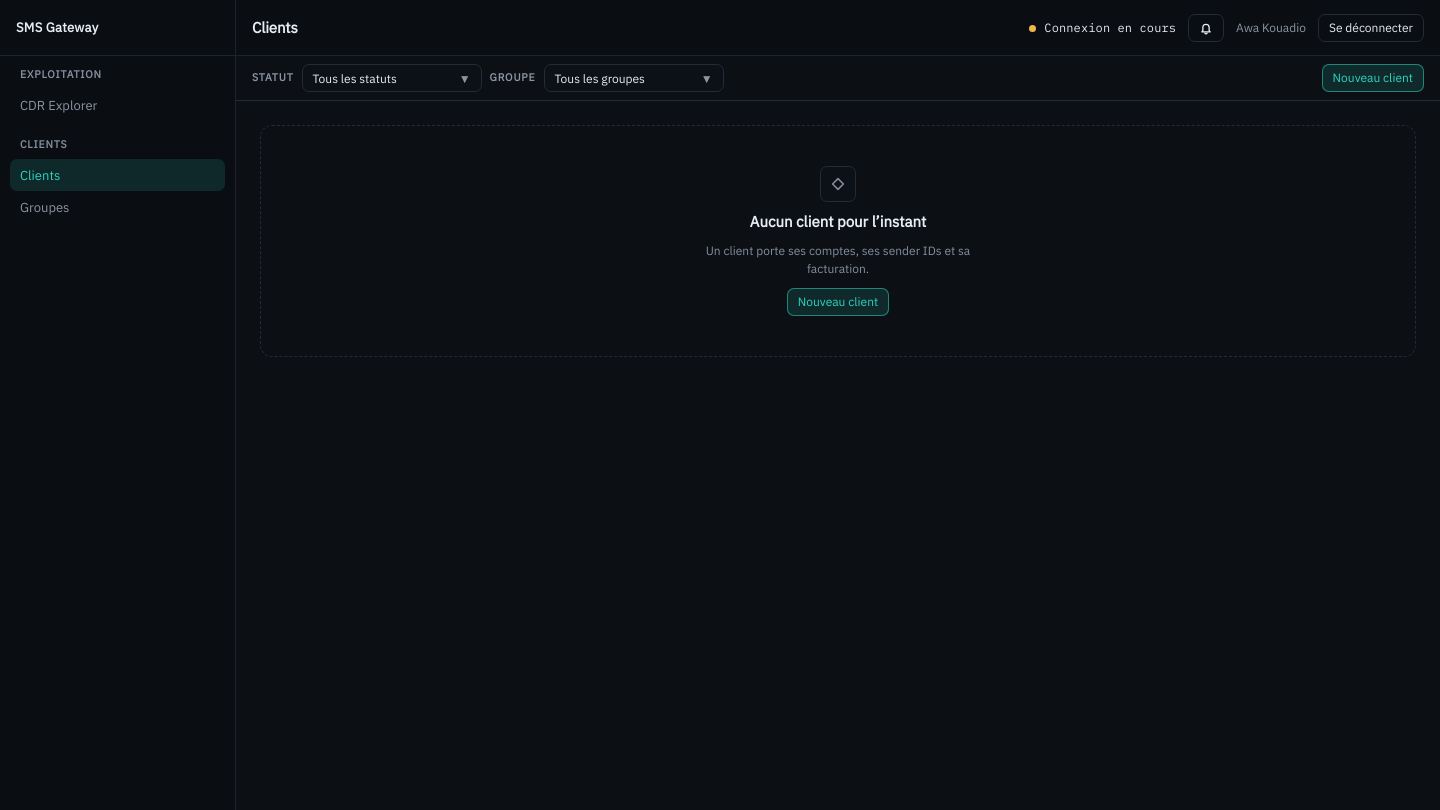
Test: the customers screen › says how to create the first customer when there is none, and lets the dialog be cancelled
The image size is (1440, 810).
Expected: the heading "Aucun client pour l’instant" is shown, [750,212,926,232]
What coordinates should you click on to do the following:
click the button "Nouveau client" below "Aucun client pour l’instant"
I would click on:
 (838, 302)
Its box is [787,288,889,316].
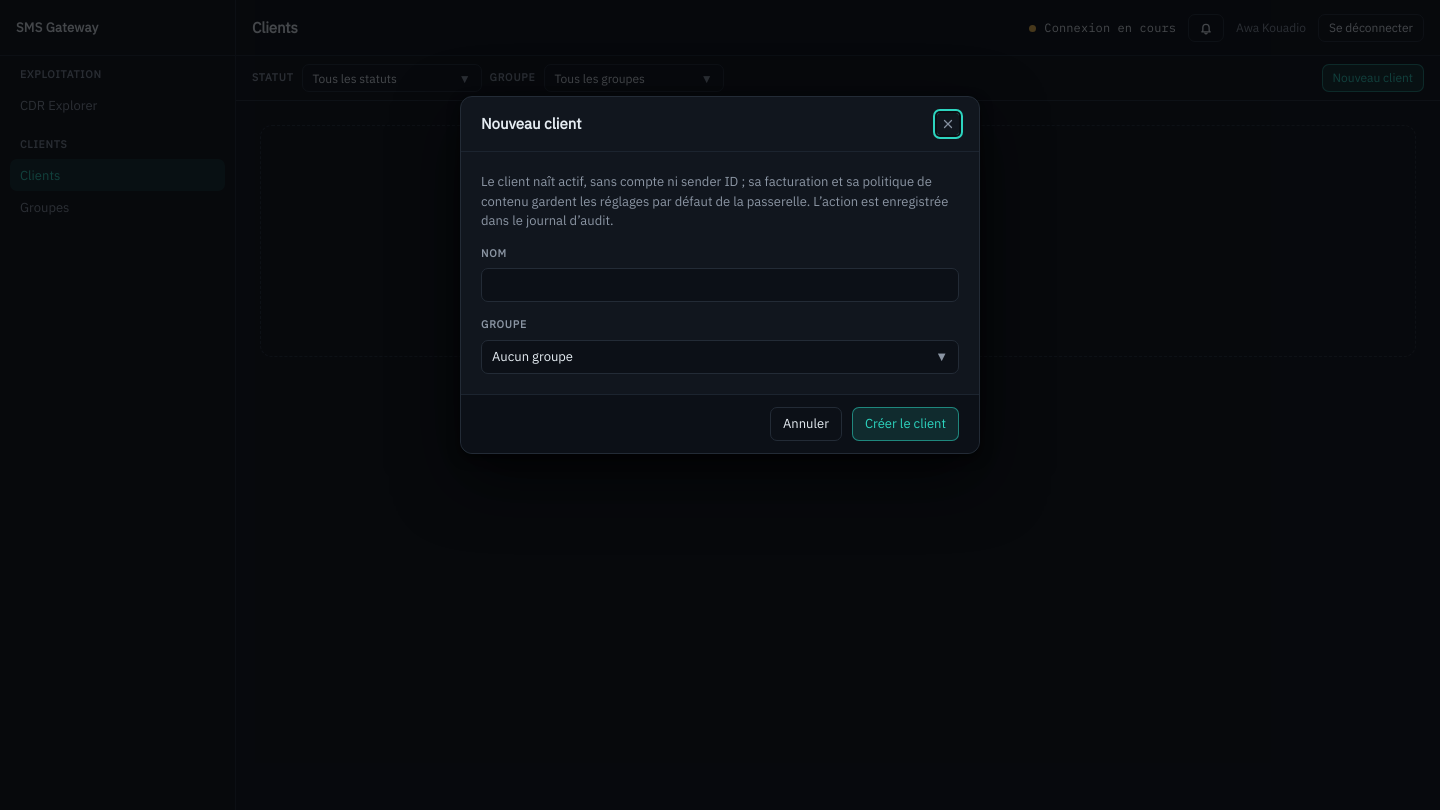
What coordinates should you click on to do the following:
click the button "Annuler"
I would click on:
 (806, 424)
Its box is [770,407,842,441].
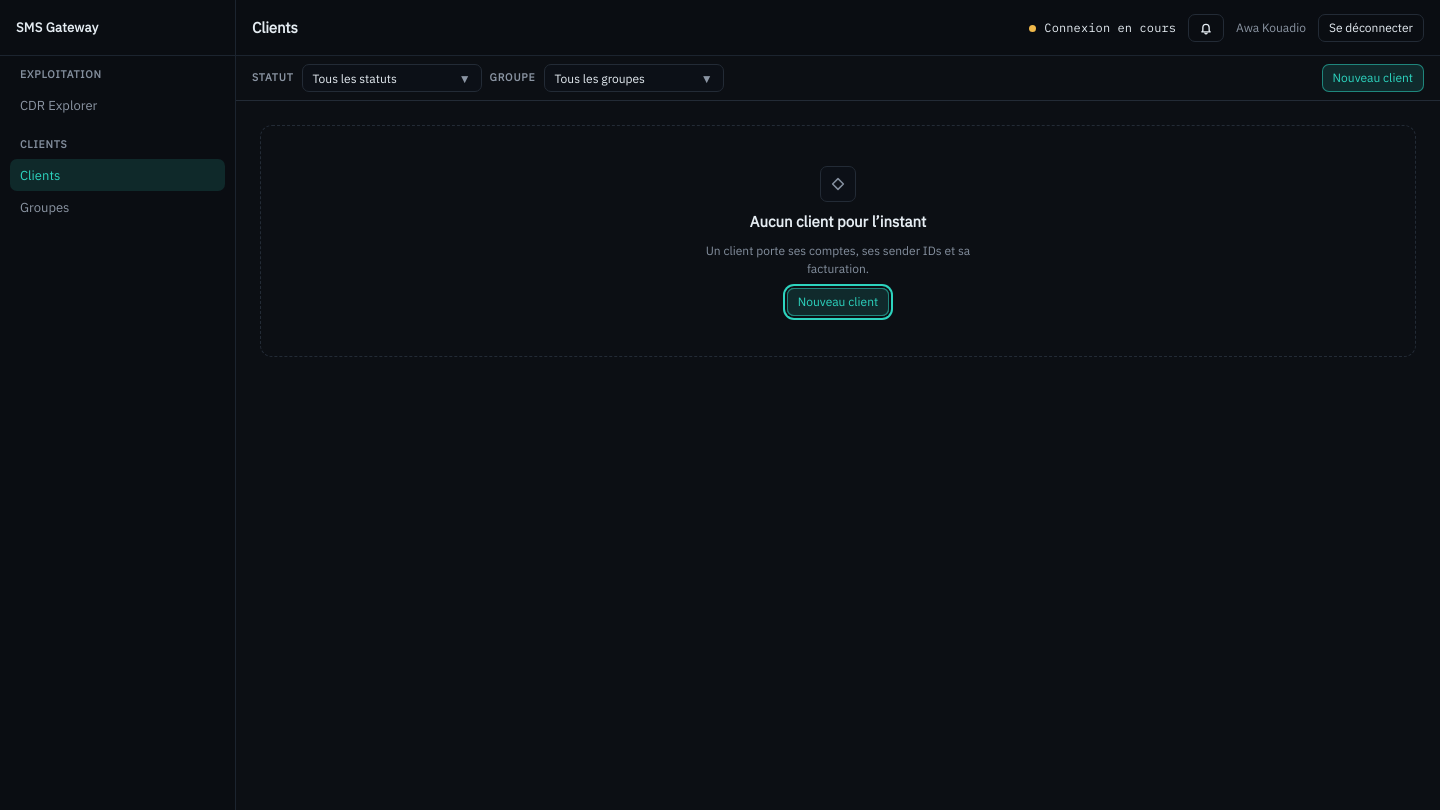
Now the dialog is gone
